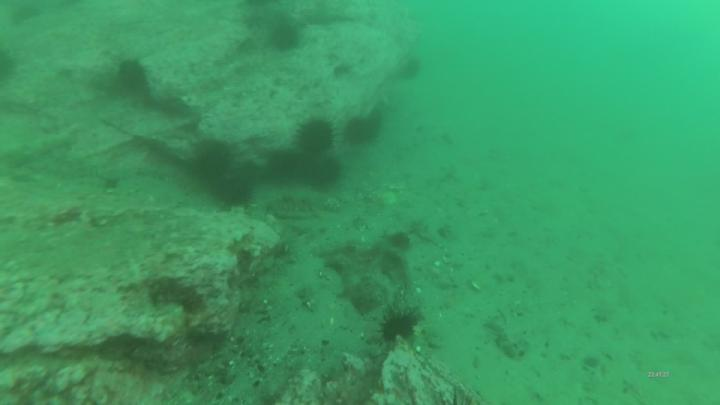echinus: (293, 115, 341, 157), (374, 306, 423, 346), (214, 168, 257, 211), (192, 141, 235, 183), (116, 57, 151, 98), (310, 155, 345, 188), (270, 20, 303, 54), (342, 113, 371, 150), (1, 45, 19, 93), (396, 57, 426, 85)
holothurian: (260, 192, 329, 219)
